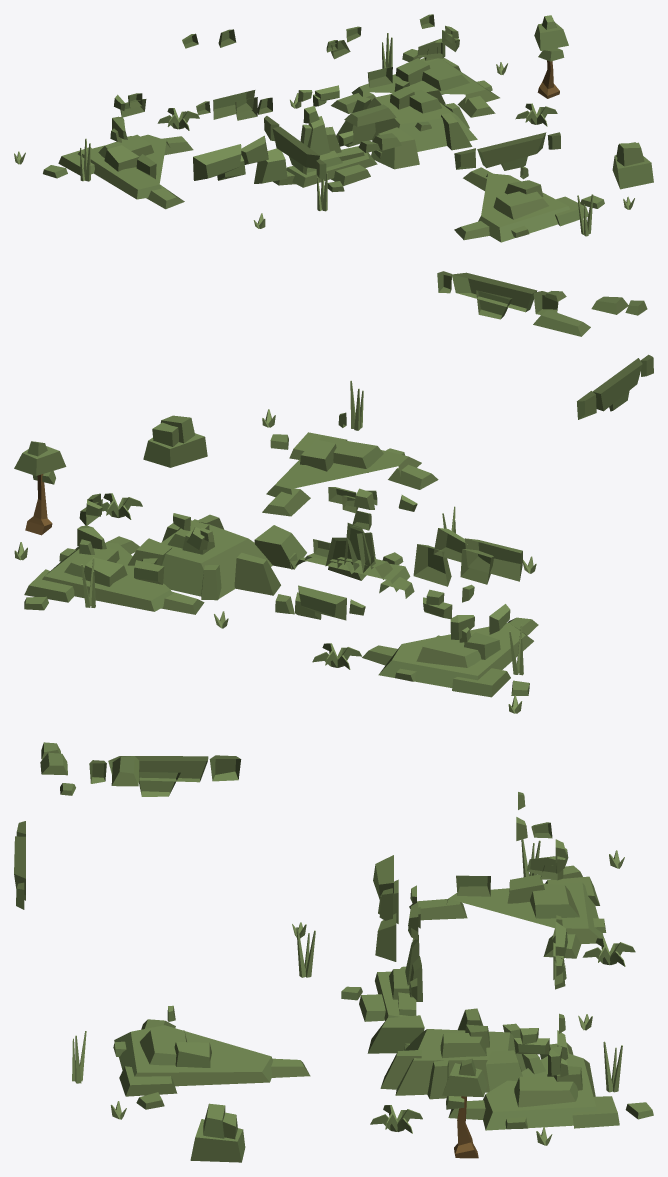
Rendered from SA_Bld_PetrolStation_Growth_01.gltf.
3 views of the same model, one above another, from view 1: azimuth 30°, elevation 25°; view 2: azimuth 150°, elevation 25°; view 3: azimuth 270°, elevation 25° (orthographic). The views are drawn at different scales.
Parts seen in each view (by area): view 1: SA_Bld_PetrolStation_Growth_01; view 2: SA_Bld_PetrolStation_Growth_01; view 3: SA_Bld_PetrolStation_Growth_01.
Boxes of the visible parts, <box> form: SA_Bld_PetrolStation_Growth_01: <box>14,14,653,242</box>; SA_Bld_PetrolStation_Growth_01: <box>14,271,653,713</box>; SA_Bld_PetrolStation_Growth_01: <box>14,742,653,1162</box>.
Bounding box in the file's own units: 31.65 × 10.38 × 28.62.
1 material, 1 textured.
